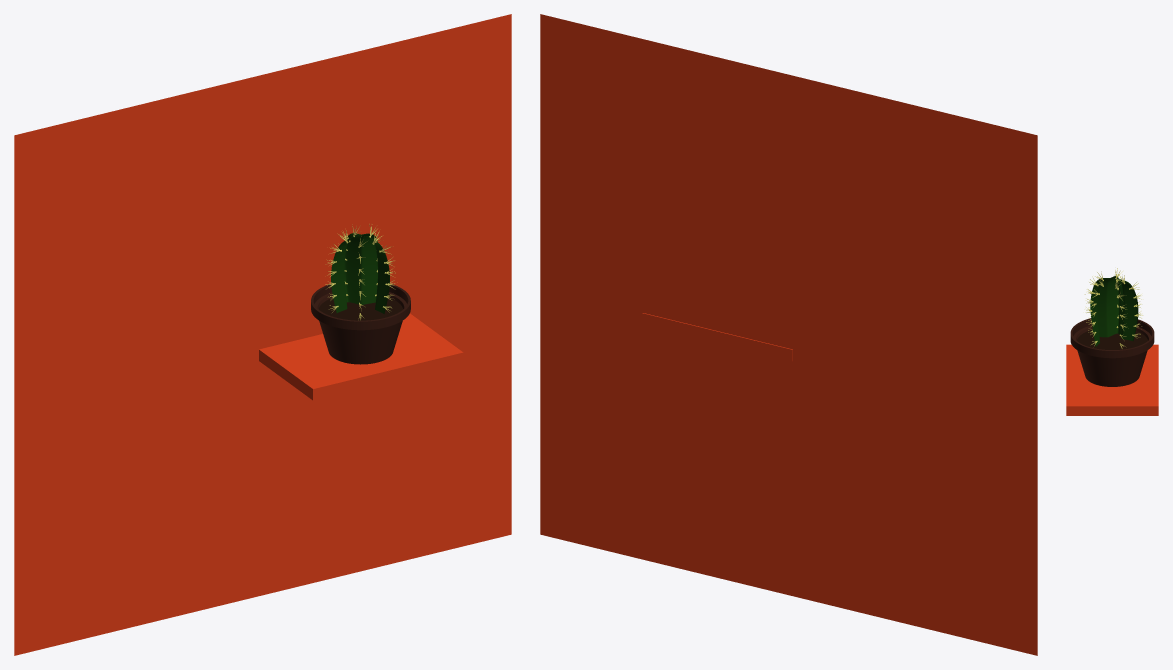
File: Kaktus.gltf
The picture shows the model from 3 angles, left to right: view 1: azimuth 30°, elevation 25°; view 2: azimuth 150°, elevation 25°; view 3: azimuth 270°, elevation 25°; orthographic projection. The views are drawn at different scales.
Parts seen in each view (by area): view 1: Plane, Cube, Cylinder, Circle, Circle.001, Cone.004; view 2: Plane, Cube; view 3: Cube, Cylinder, Circle, Circle.001, Cone.004.
Boxes of the visible parts, box(x1,y1,x2,y2) form: Plane: box(14, 14, 511, 655); Cube: box(259, 313, 463, 400); Cylinder: box(311, 284, 410, 364); Circle: box(331, 233, 389, 313); Circle.001: box(318, 298, 403, 320); Cone.004: box(325, 224, 395, 320); Plane: box(540, 14, 1037, 655); Cube: box(642, 313, 792, 361); Cube: box(1066, 344, 1158, 415); Cylinder: box(1070, 318, 1154, 386); Circle: box(1090, 276, 1138, 346); Circle.001: box(1077, 330, 1147, 349); Cone.004: box(1084, 268, 1142, 348).
Bounding box in the file's own units: 17.93 × 17.93 × 3.42.
